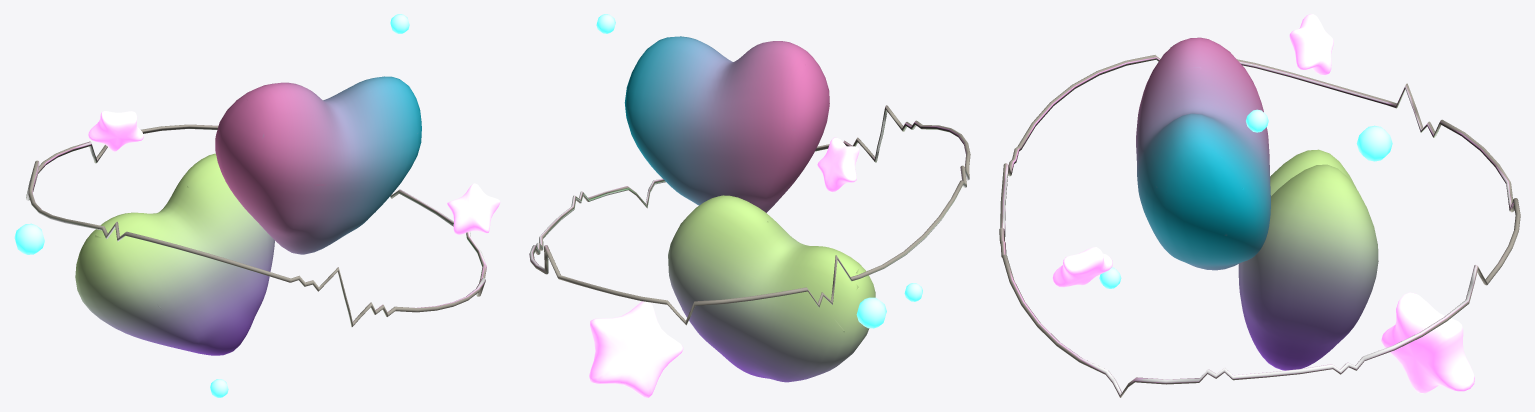
File: heartnstar.gltf
The picture shows the model from 3 angles, left to right: view 1: azimuth 30°, elevation 25°; view 2: azimuth 150°, elevation 25°; view 3: azimuth 270°, elevation 25°; orthographic projection. The views are drawn at different scales.
Parts seen in each view (by area): view 1: Cube, Cube.001, Torus.001, Star.002, Star, Sphere.002; view 2: Cube, Cube.001, Star.001, Torus.001, Star, Sphere.002; view 3: Cube, Cube.001, Torus.001, Star.001, Star, Star.002, Sphere.002.
Boxes of the visible parts, box(x1,y1,x2,y2) form: Cube: box(215, 76, 421, 254); Cube.001: box(75, 153, 274, 355); Torus.001: box(26, 124, 486, 326); Star.002: box(447, 183, 500, 234); Star: box(88, 111, 143, 151); Sphere.002: box(14, 223, 44, 254); Cube: box(624, 36, 829, 212); Cube.001: box(668, 195, 875, 382); Star.001: box(589, 301, 683, 397); Torus.001: box(529, 105, 970, 325); Star: box(817, 137, 859, 192); Sphere.002: box(856, 297, 886, 328); Cube: box(1136, 37, 1270, 270); Cube.001: box(1238, 149, 1378, 370); Torus.001: box(999, 47, 1520, 397); Star.001: box(1381, 292, 1474, 393); Star: box(1289, 14, 1333, 75); Star.002: box(1052, 247, 1112, 287); Sphere.002: box(1356, 125, 1392, 161).
Size of the model in its own units: 2.78 by 2.12 by 2.86.
5 materials, 3 textured.
